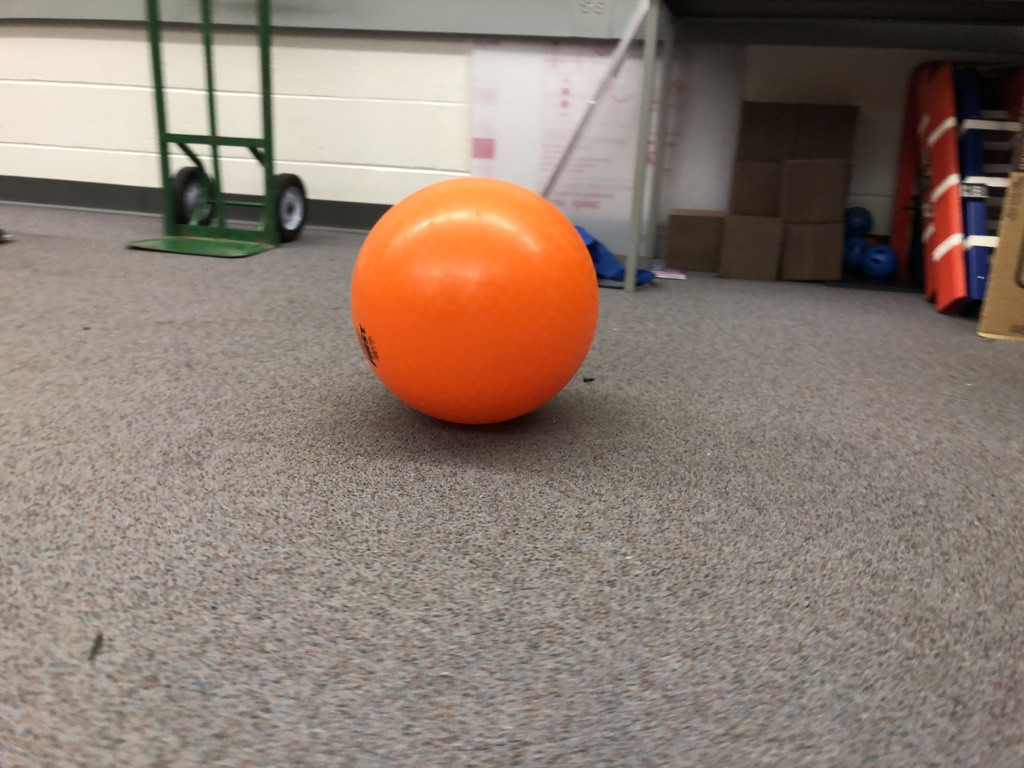cargo: (346, 173, 623, 440)
